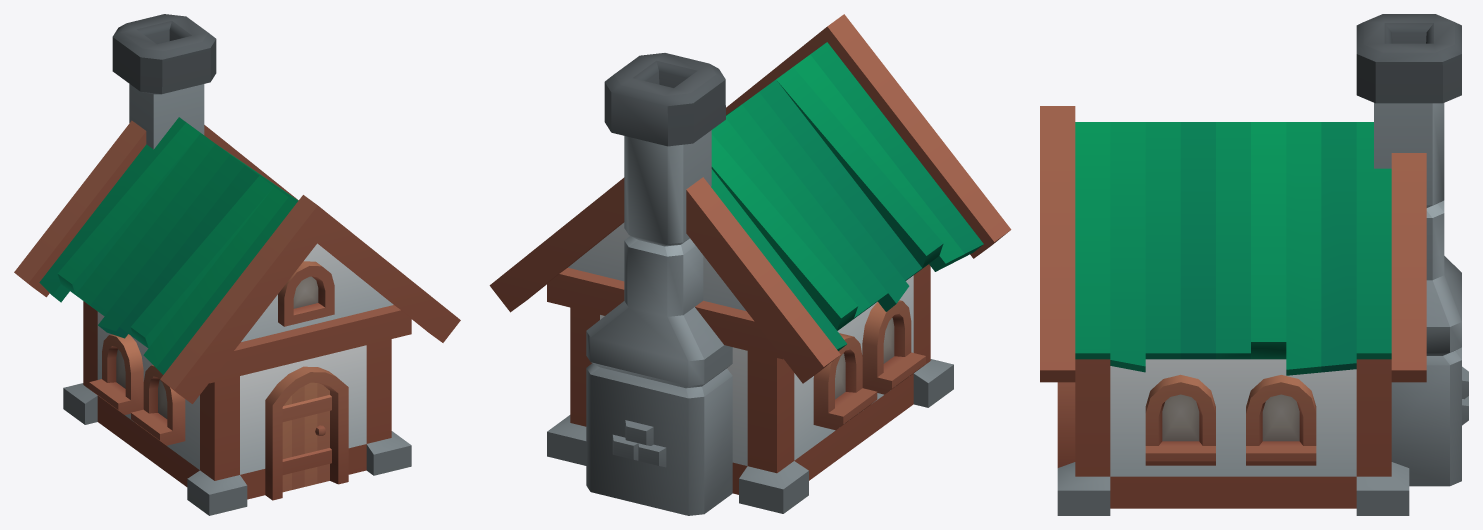
Rendered from building_home_A_green.glb.
The picture shows the model from 3 angles, left to right: view 1: azimuth 30°, elevation 25°; view 2: azimuth 150°, elevation 25°; view 3: azimuth 270°, elevation 25°; orthographic projection. The views are drawn at different scales.
Visible parts, largest first — view 1: building_home_A_green; view 2: building_home_A_green; view 3: building_home_A_green.
Part boxes in pixels (x1=…): building_home_A_green: x1=14, y1=14, x2=460, y2=515; building_home_A_green: x1=489, y1=14, x2=1011, y2=515; building_home_A_green: x1=1040, y1=14, x2=1468, y2=515.
Bounding box in the file's own units: 0.792 × 0.93 × 0.8537.
1 material, 1 textured.
